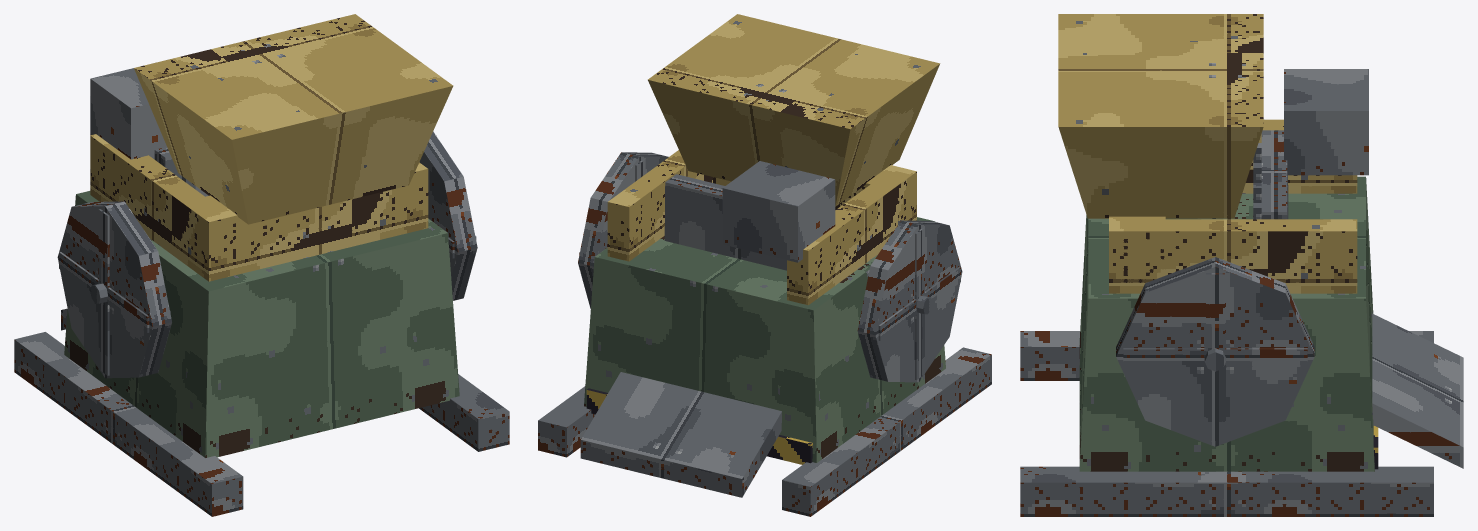
The model's file is machinery__jaw_crusher.glb.
3 views of the same model, side by side, from view 1: azimuth 30°, elevation 25°; view 2: azimuth 150°, elevation 25°; view 3: azimuth 270°, elevation 25° (orthographic). The views are drawn at different scales.
Parts seen in each view (by area): view 1: _MeshInstance3D_6, _MeshInstance3D_5, _MeshInstance3D_4, _MeshInstance3D_9, _MeshInstance3D_11; view 2: _MeshInstance3D_6, _MeshInstance3D_5, _MeshInstance3D_4, _MeshInstance3D_9, _MeshInstance3D_13, _MeshInstance3D_11, _MeshInstance3D_7; view 3: _MeshInstance3D_6, _MeshInstance3D_4, _MeshInstance3D_5, _MeshInstance3D_11, _MeshInstance3D_13.
Part boxes in pixels (left/top/right/bottom): _MeshInstance3D_6: left=90, top=14, right=453, bottom=281; _MeshInstance3D_5: left=64, top=191, right=459, bottom=457; _MeshInstance3D_4: left=14, top=68, right=509, bottom=516; _MeshInstance3D_9: left=57, top=201, right=171, bottom=378; _MeshInstance3D_11: left=419, top=131, right=477, bottom=300; _MeshInstance3D_6: left=607, top=14, right=940, bottom=305; _MeshInstance3D_5: left=584, top=217, right=945, bottom=462; _MeshInstance3D_4: left=538, top=161, right=991, bottom=516; _MeshInstance3D_9: left=857, top=220, right=962, bottom=382; _MeshInstance3D_13: left=664, top=174, right=786, bottom=270; _MeshInstance3D_11: left=578, top=152, right=668, bottom=308; _MeshInstance3D_7: left=586, top=388, right=812, bottom=464; _MeshInstance3D_6: left=1058, top=14, right=1357, bottom=293; _MeshInstance3D_4: left=1020, top=69, right=1463, bottom=516; _MeshInstance3D_5: left=1079, top=176, right=1374, bottom=471; _MeshInstance3D_11: left=1116, top=257, right=1314, bottom=446; _MeshInstance3D_13: left=1253, top=130, right=1288, bottom=219.
Bounding box in the file's own units: 1.76 × 1.73 × 1.88.
4 materials, 4 textured.
